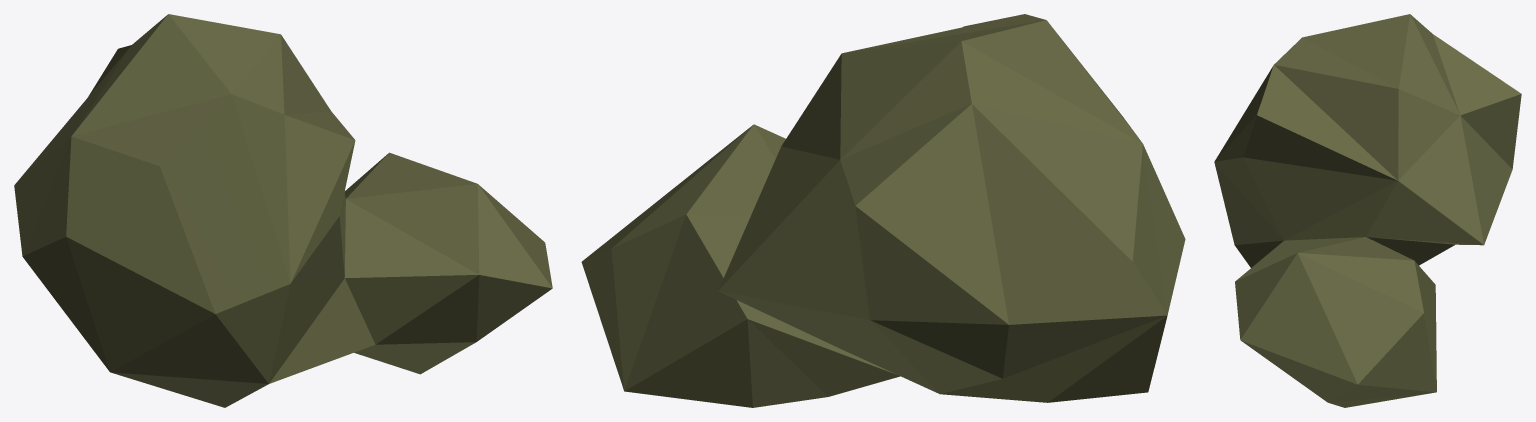
Rendered from env_bush2.gltf.
3 renders of one model, left to right at view 1: azimuth 30°, elevation 25°; view 2: azimuth 150°, elevation 25°; view 3: azimuth 270°, elevation 25°, orthographic. The views are drawn at different scales.
Parts seen in each view (by area): view 1: env_bush2; view 2: env_bush2; view 3: env_bush2.
Boxes of the visible parts, left/top/right/bottom form: env_bush2: left=14, top=14, right=552, bottom=407; env_bush2: left=581, top=14, right=1185, bottom=407; env_bush2: left=1214, top=14, right=1521, bottom=407.
Bounding box in the file's own units: 5.18 × 3.77 × 3.39.
Materials: 1 (1 with a texture image).
